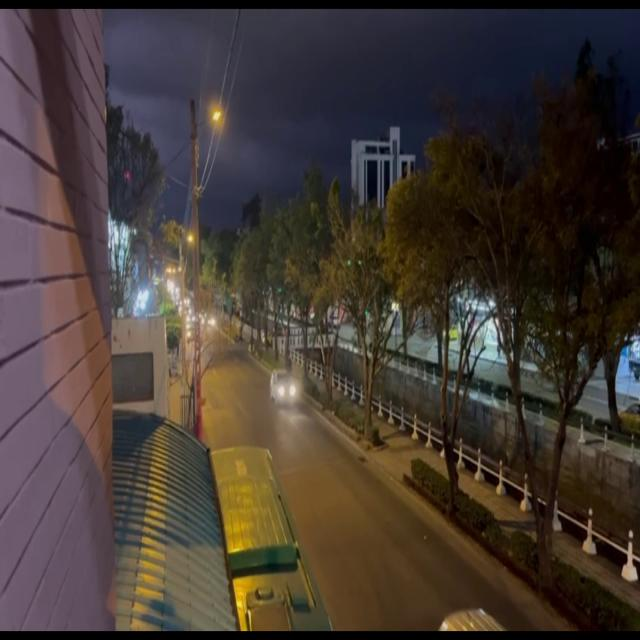SUV: (271, 371, 297, 408)
